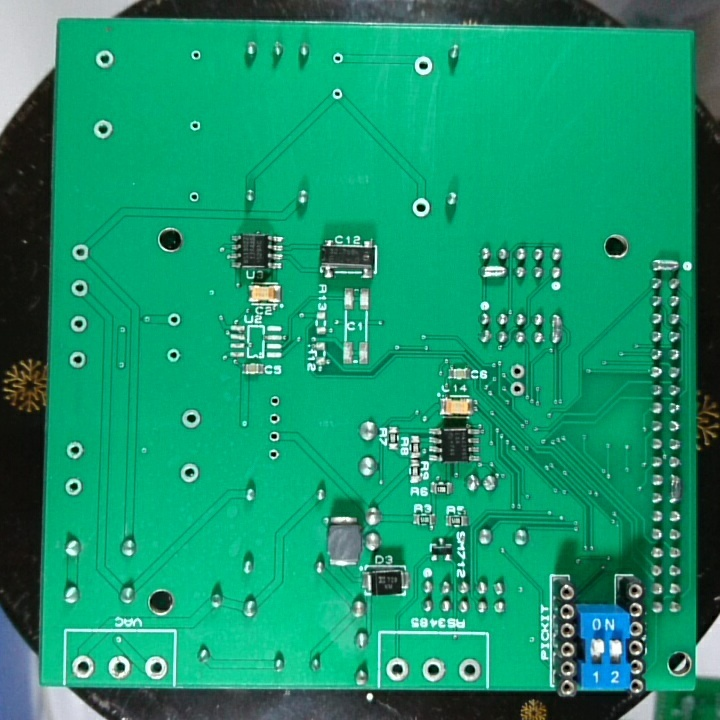F: (69, 653, 99, 682), (382, 655, 411, 684), (420, 655, 448, 685), (143, 652, 170, 682), (106, 652, 133, 681), (456, 655, 482, 685), (61, 437, 87, 463), (91, 117, 117, 142), (177, 459, 202, 485), (92, 47, 117, 72), (179, 406, 203, 432), (410, 195, 434, 221), (62, 473, 85, 500), (411, 53, 434, 78), (65, 349, 89, 372), (68, 276, 90, 300), (67, 312, 89, 336), (69, 242, 92, 263), (508, 360, 528, 381), (165, 310, 183, 330), (328, 49, 347, 67), (186, 46, 204, 65), (163, 346, 182, 364), (265, 390, 283, 409), (328, 85, 346, 103), (508, 379, 525, 398), (186, 117, 203, 135), (185, 189, 202, 206), (267, 410, 283, 428), (265, 446, 282, 462), (266, 428, 282, 445)
P: (648, 255, 682, 274), (549, 311, 565, 346), (477, 263, 508, 280), (668, 471, 683, 506)
